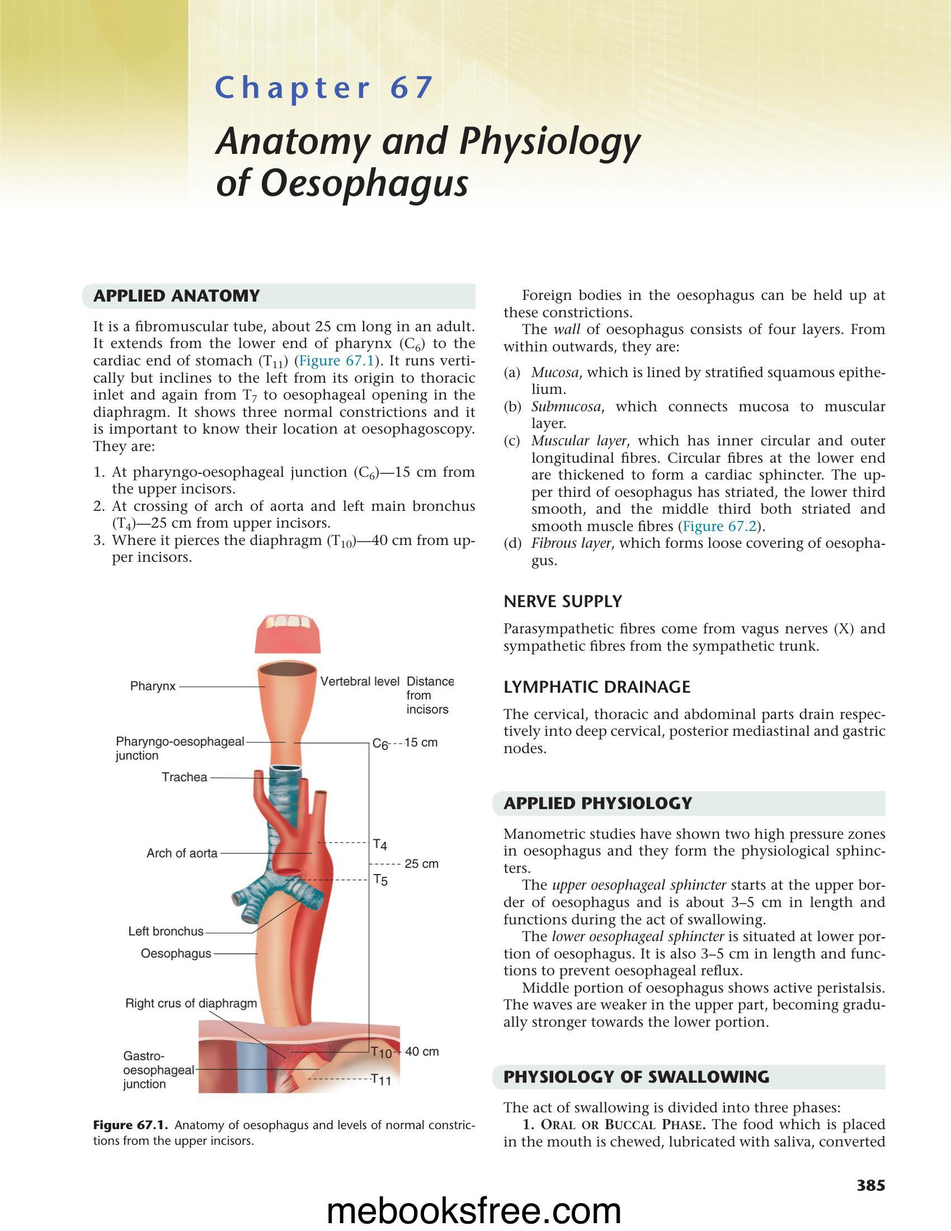caption: (91, 1117, 476, 1149)
chapter-heading: (212, 122, 644, 209)
image: (98, 583, 473, 1115)
list: (502, 363, 888, 570), (90, 462, 477, 567), (503, 1117, 887, 1150)
section-heading: (502, 1069, 771, 1085), (90, 286, 262, 304), (501, 795, 693, 811)
sub-section-heading: (503, 678, 694, 695), (501, 592, 624, 610)
text: (503, 825, 888, 1031), (92, 317, 478, 456), (502, 287, 887, 356), (502, 707, 887, 756), (502, 621, 886, 654), (502, 1100, 841, 1116)
